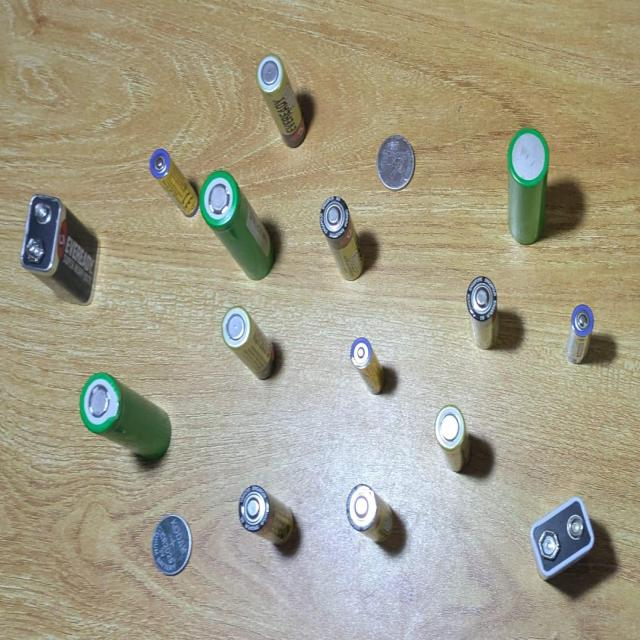9V: (17, 184, 111, 314), (526, 491, 601, 592)
AA: (318, 182, 374, 286), (256, 50, 314, 150), (216, 299, 280, 388), (430, 402, 484, 484), (465, 270, 511, 363), (343, 482, 392, 543), (234, 478, 279, 538)
AAA: (147, 142, 199, 228), (566, 302, 596, 369), (349, 330, 379, 387)
COIN: (374, 126, 420, 197), (150, 510, 192, 580)
